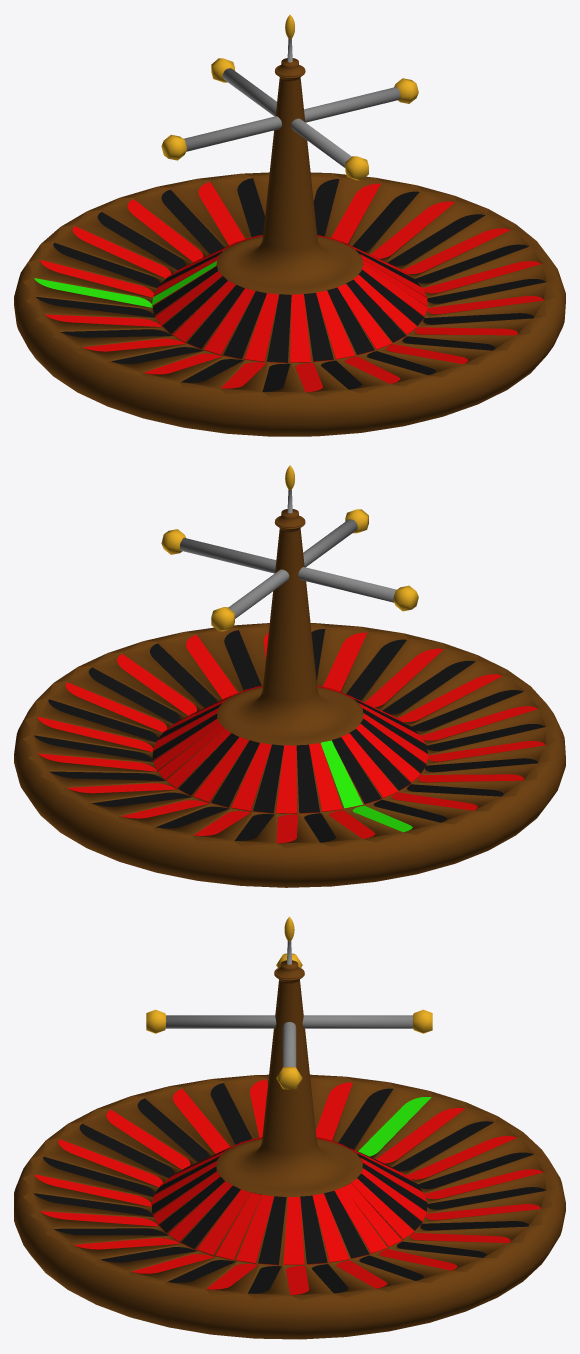
File: wheel.glb
3 renders of one model, top to bottom at view 1: azimuth 30°, elevation 25°; view 2: azimuth 150°, elevation 25°; view 3: azimuth 270°, elevation 25°, orthographic.
Visible parts, largest first — view 1: wheel, Cube, Cube.001; view 2: wheel, Cube, Cube.001; view 3: wheel, Cube, Cube.001.
Part boxes in pixels (box(x1,y1,x2,y2)): wheel: box(14, 14, 565, 436); Cube: box(34, 178, 545, 392); Cube.001: box(151, 235, 427, 362); wheel: box(14, 465, 565, 887); Cube: box(34, 629, 545, 843); Cube.001: box(152, 685, 428, 813); wheel: box(14, 916, 565, 1339); Cube: box(34, 1079, 545, 1294); Cube.001: box(151, 1137, 427, 1265).
Bounding box in the file's own units: 1.58 × 0.9771 × 1.58.
